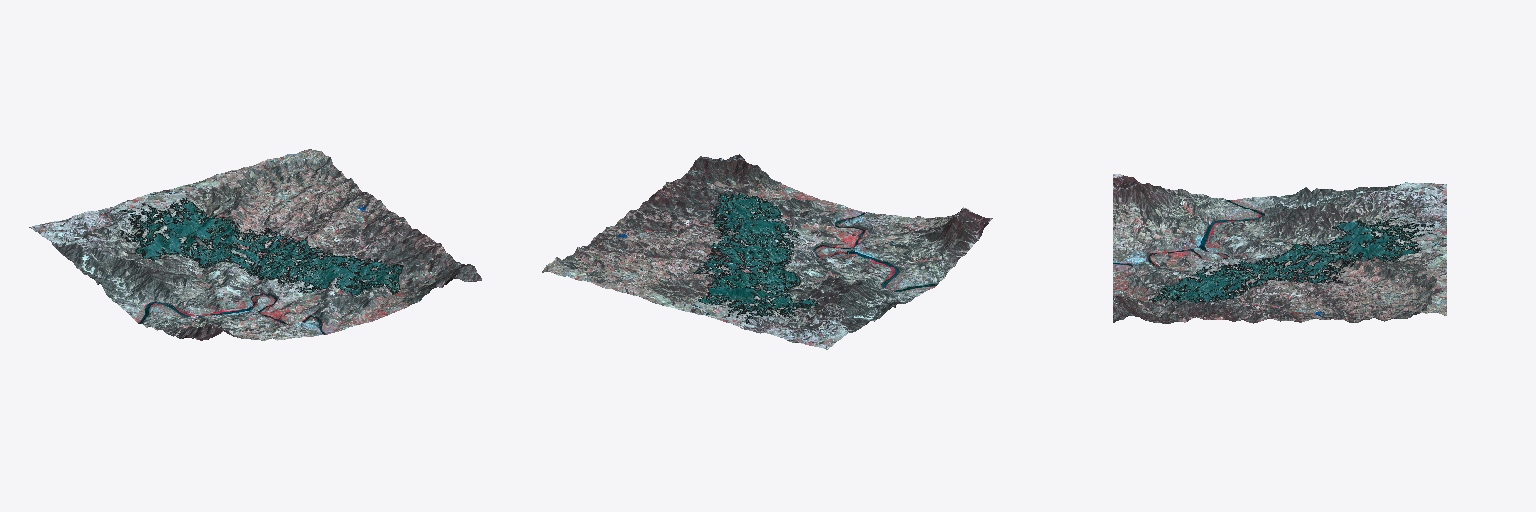
The picture shows the model from 3 angles: view 1: azimuth 30°, elevation 25°; view 2: azimuth 150°, elevation 25°; view 3: azimuth 270°, elevation 25°; orthographic projection.
Parts seen in each view (by area): view 1: sentinelFoc_MetElipResi_2Lineas_2; view 2: sentinelFoc_MetElipResi_2Lineas_2; view 3: sentinelFoc_MetElipResi_2Lineas_2.
Boxes of the visible parts, x1,y1,x2,y2 form: sentinelFoc_MetElipResi_2Lineas_2: [29, 149, 481, 340]; sentinelFoc_MetElipResi_2Lineas_2: [542, 154, 992, 349]; sentinelFoc_MetElipResi_2Lineas_2: [1113, 174, 1446, 323].
Bounding box in the file's own units: 40.08 × 3.92 × 40.62.
Materials: 1 (1 with a texture image).